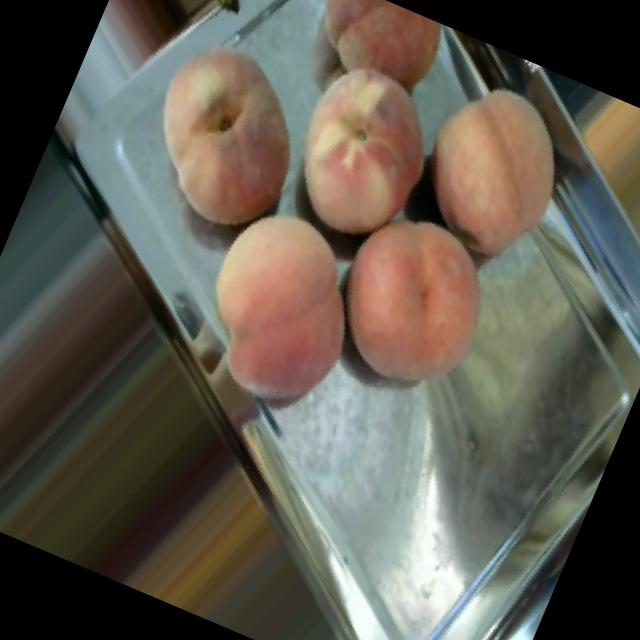Fruit: (135, 157, 422, 456), (87, 0, 358, 279), (281, 172, 543, 436), (228, 2, 472, 274), (85, 394, 350, 640), (382, 43, 621, 305), (496, 80, 640, 334)
